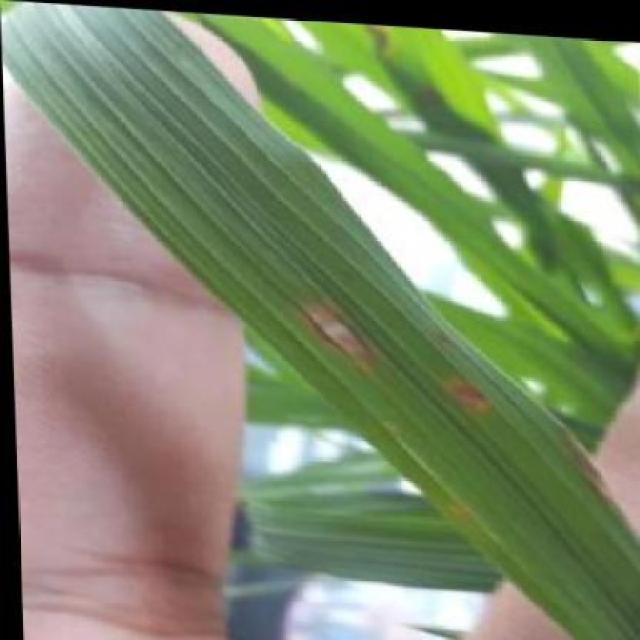Bacterial_Leaf_Blight: (412, 343, 522, 448), (274, 259, 371, 373)
